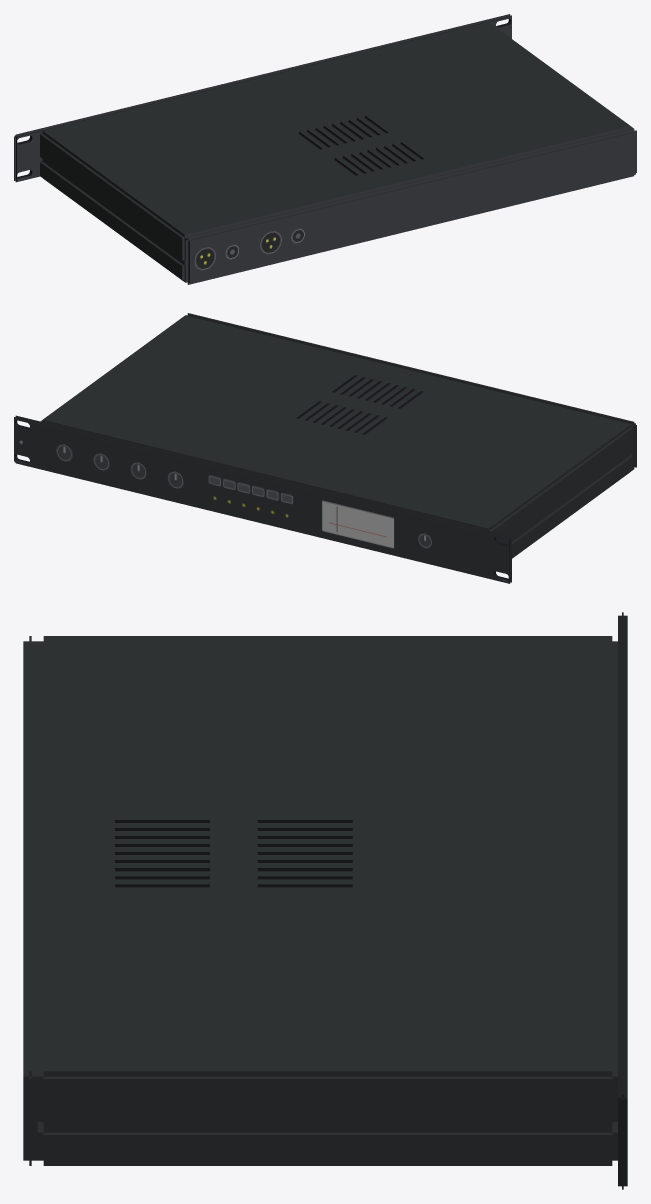
File: empirical-labs-distressor.glb
3 renders of one model, top to bottom at view 1: azimuth 30°, elevation 25°; view 2: azimuth 150°, elevation 25°; view 3: azimuth 270°, elevation 25°, orthographic. The views are drawn at different scales.
Visible parts, largest first — view 1: empirical-labs-distressor-body; view 2: empirical-labs-distressor-body; view 3: empirical-labs-distressor-body.
Part boxes in pixels (bbox=[...]): empirical-labs-distressor-body: bbox=[14, 14, 636, 284]; empirical-labs-distressor-body: bbox=[14, 313, 636, 583]; empirical-labs-distressor-body: bbox=[23, 612, 627, 1189].
Bounding box in the file's own units: 0.483 × 0.044 × 0.254.
1 material, 1 textured.
